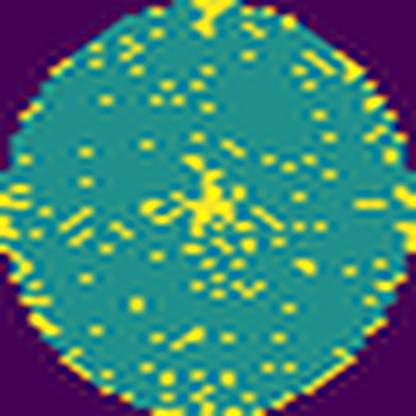Center: (175, 170, 238, 237)
